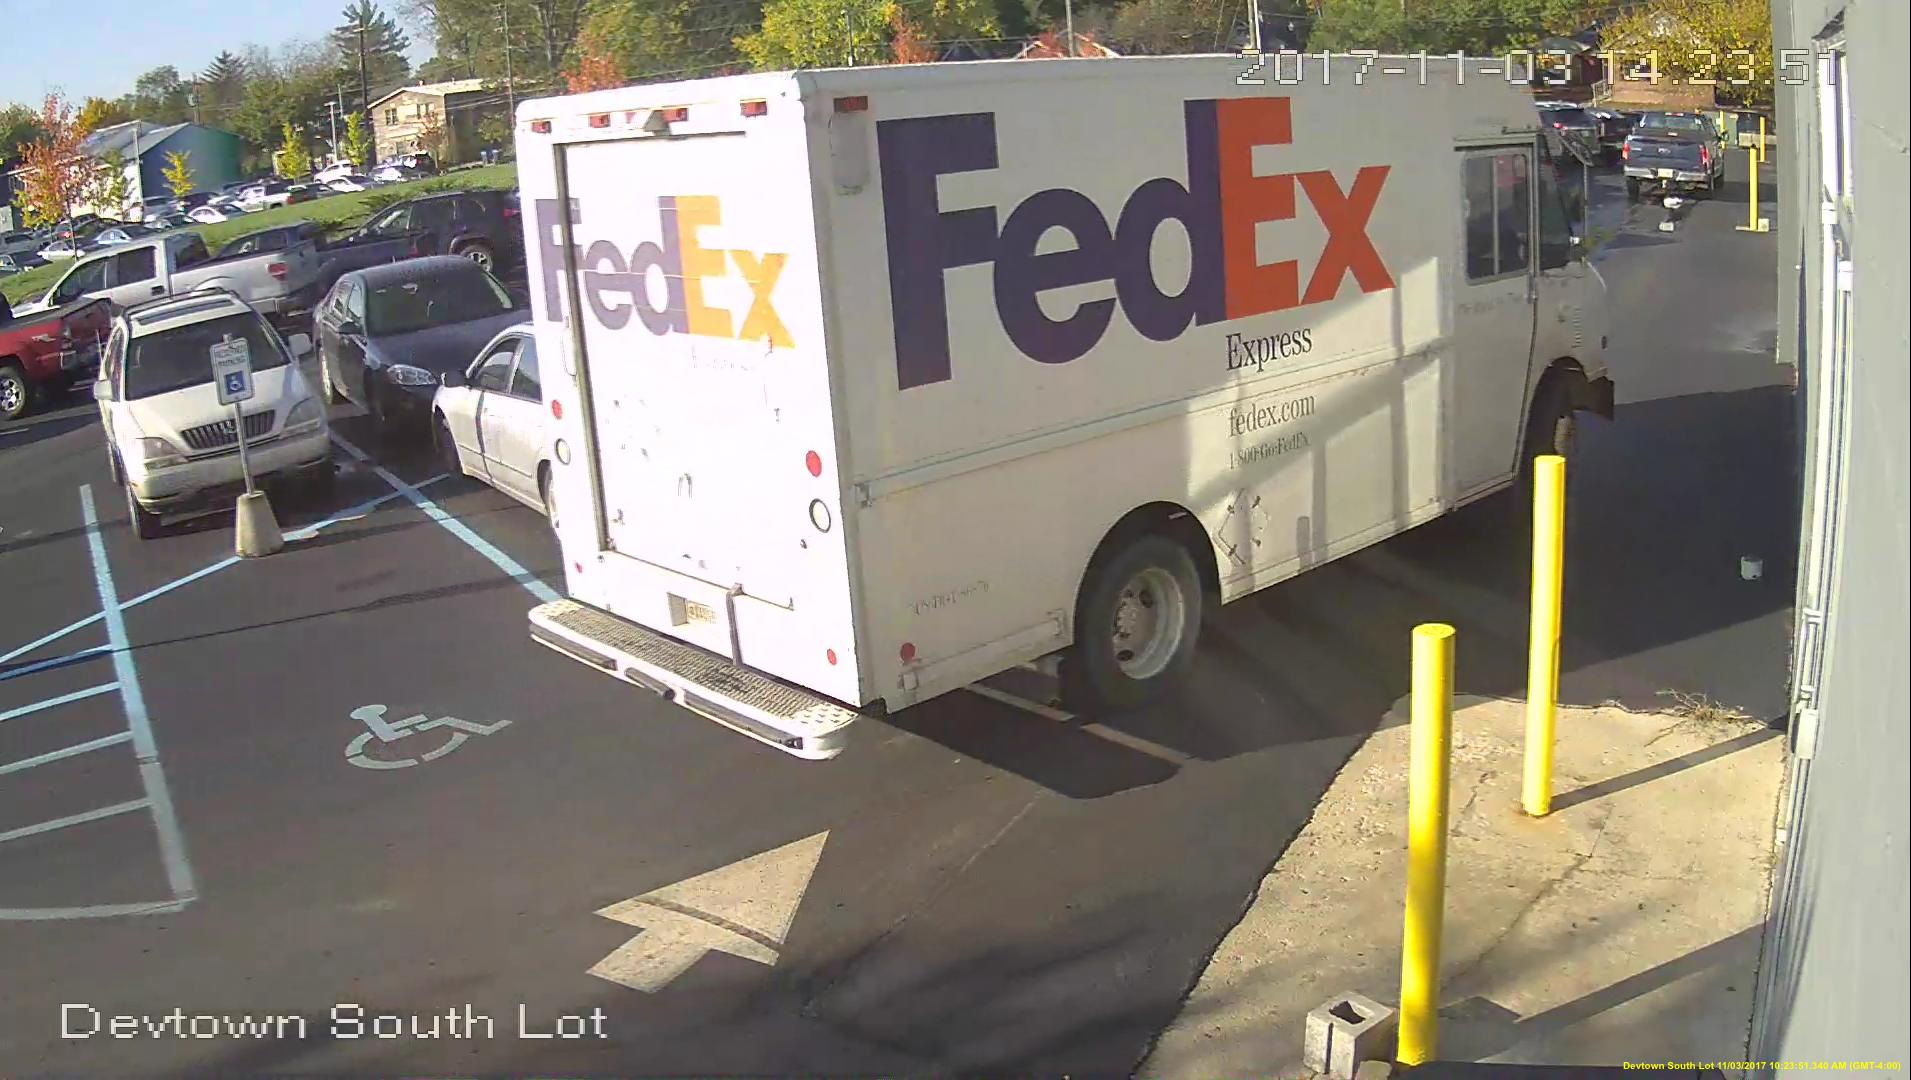fedex_truck: (501, 47, 1627, 766)
